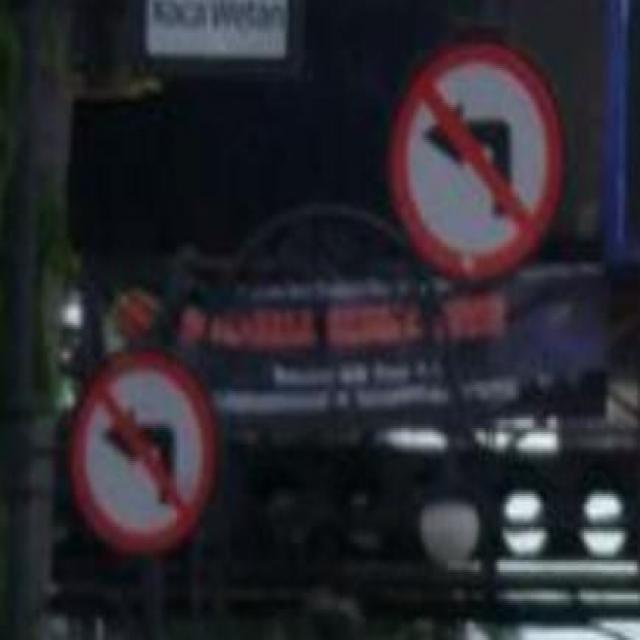traffic sign: (396, 41, 561, 274), (74, 358, 208, 543)
